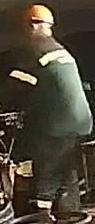helmet: (22, 4, 56, 26)
vest: (10, 34, 91, 139)
